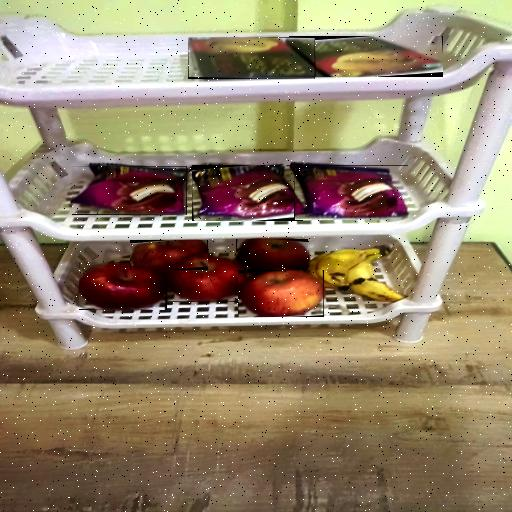Apple: (79, 262, 167, 310), (238, 270, 324, 317), (165, 257, 246, 302), (236, 239, 308, 275), (130, 240, 208, 270)
Choco Fills: (289, 36, 443, 77), (188, 37, 315, 79)
Choco Pie: (294, 165, 408, 220), (192, 165, 303, 221), (72, 166, 187, 215)
